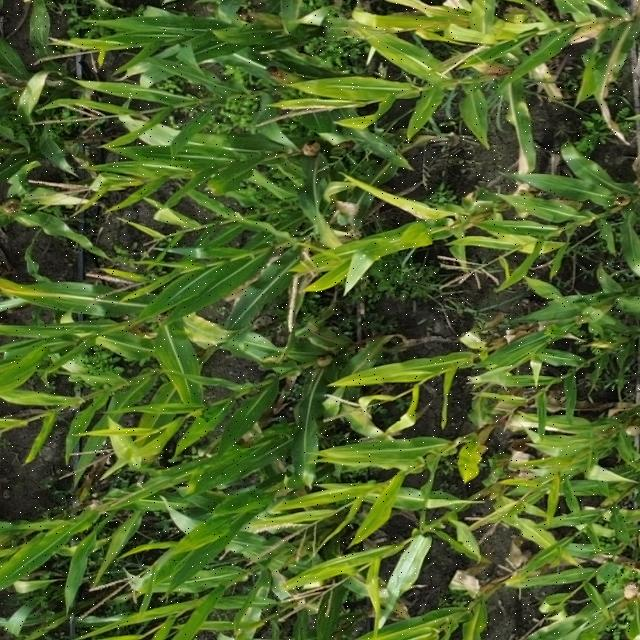northern-leaf-blight: (446, 410, 512, 482), (179, 304, 234, 348)
